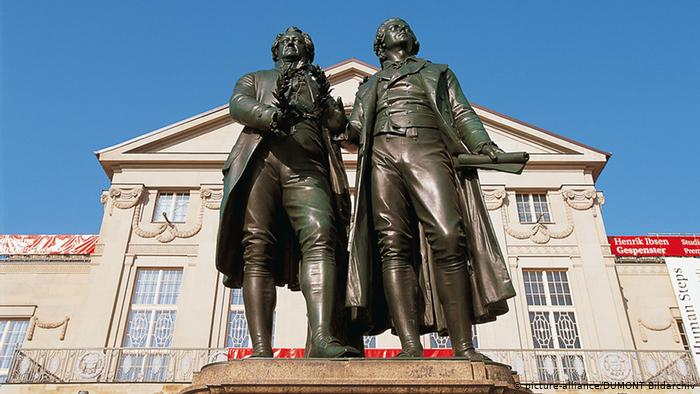person-like: (326, 15, 523, 366), (211, 21, 361, 365)
